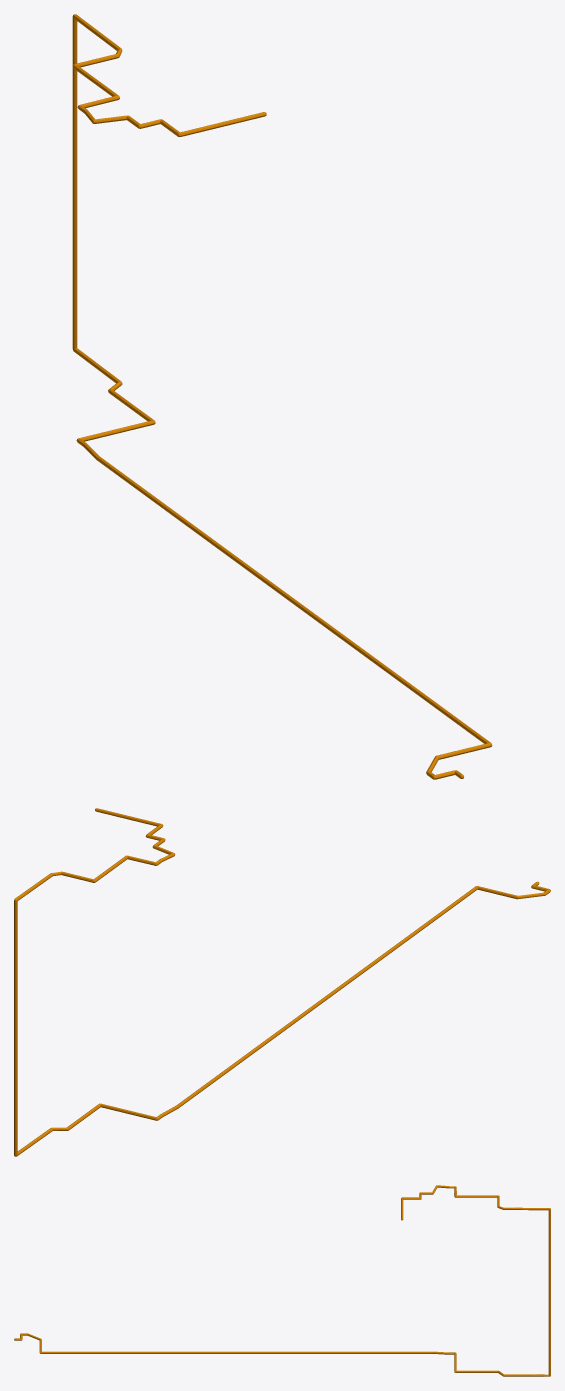
The picture shows the model from 3 angles, top to bottom: view 1: azimuth 30°, elevation 25°; view 2: azimuth 150°, elevation 25°; view 3: azimuth 270°, elevation 25°; orthographic projection. The views are drawn at different scales.
Size of the model in its own units: 1013 by 1520 by 4383.
